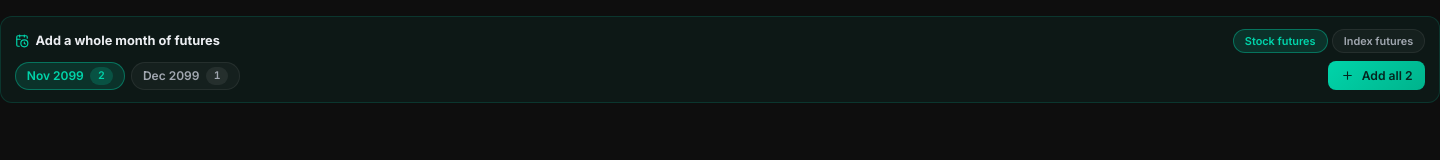
it: a whole month of futures › index futures on the other chip
The image size is (1440, 160).
Click the button "Index futures": (1378, 41) top-left (1332, 29), bottom-right (1425, 53)
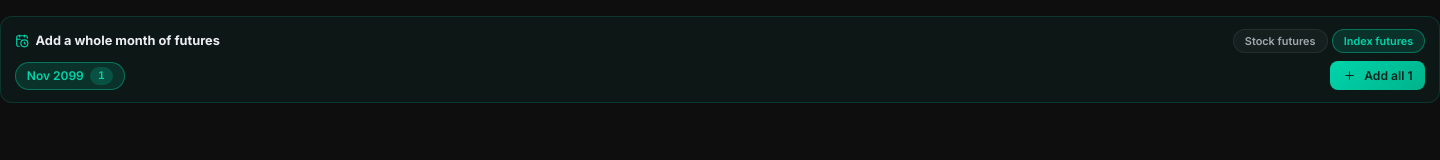
Now the button "Add all 1" is shown, box top-left (1330, 61), bottom-right (1425, 90)
